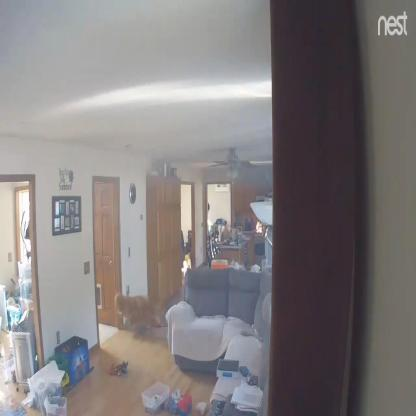fire: (256, 220, 262, 233)
